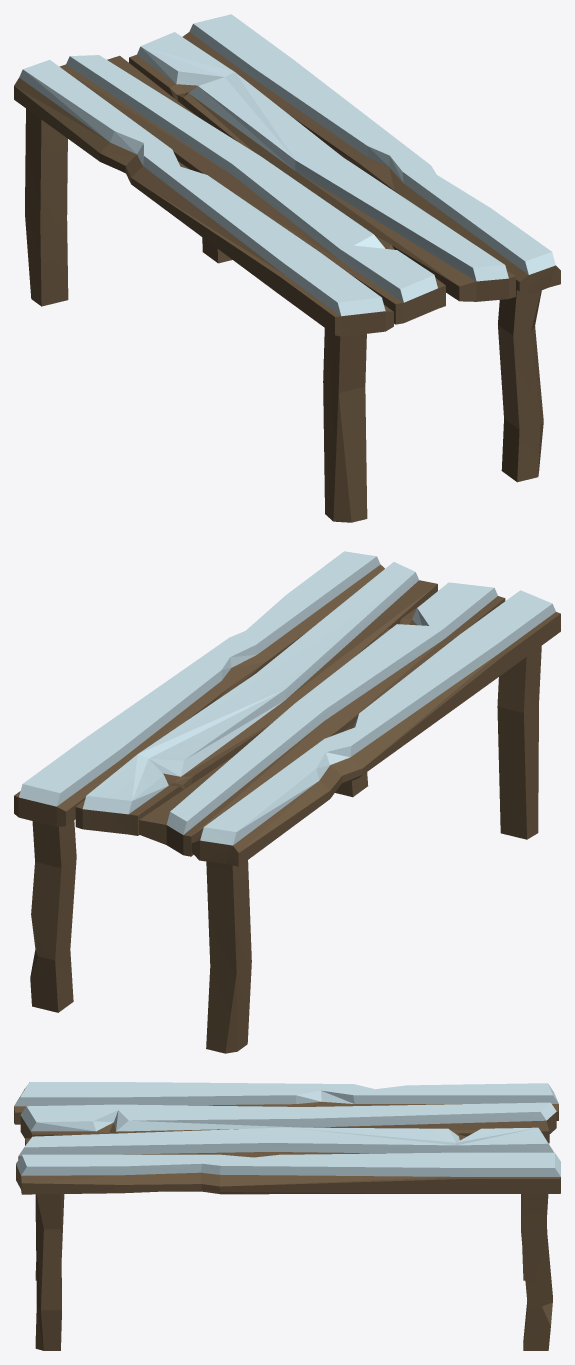
File: Mesa.glb
3 views of the same model, one above another, from view 1: azimuth 30°, elevation 25°; view 2: azimuth 150°, elevation 25°; view 3: azimuth 270°, elevation 25° (orthographic). The views are drawn at different scales.
Visible parts, largest first — view 1: SM_Prop_Table_01_Snow; view 2: SM_Prop_Table_01_Snow; view 3: SM_Prop_Table_01_Snow.
Part boxes in pixels (x1=…): SM_Prop_Table_01_Snow: x1=14, y1=14, x2=560, y2=522; SM_Prop_Table_01_Snow: x1=14, y1=551, x2=560, y2=1053; SM_Prop_Table_01_Snow: x1=14, y1=1082, x2=560, y2=1350.
Size of the model in its own units: 1.13 by 1.07 by 2.86.
Materials: 1 (1 with a texture image).
